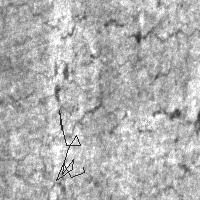crazing: (2, 45, 182, 126), (3, 1, 200, 42), (85, 155, 190, 196), (126, 23, 194, 75), (56, 110, 84, 180)
